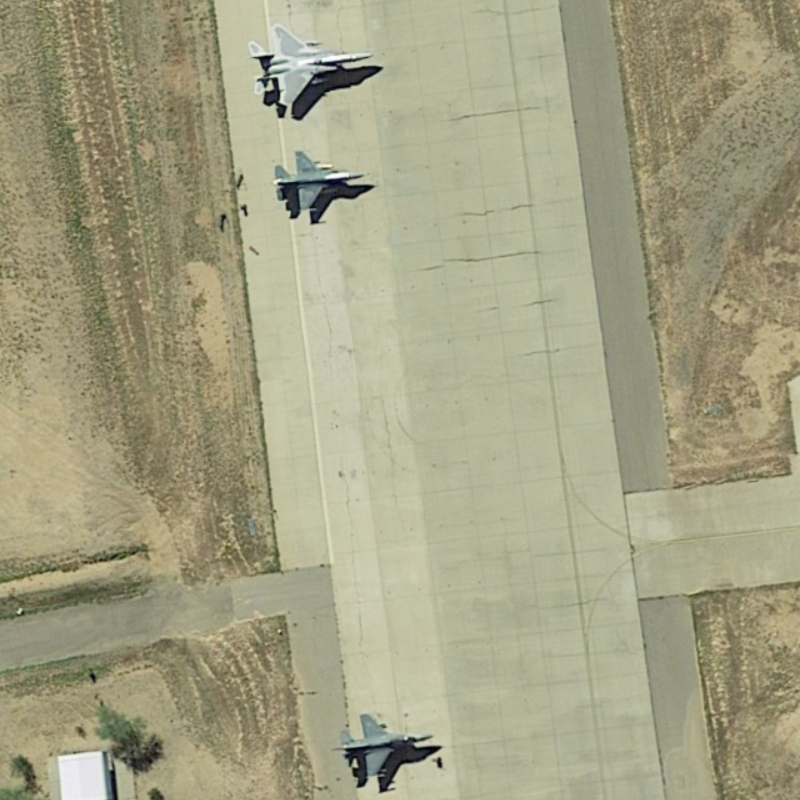A13: (246, 16, 383, 122)
A5: (335, 708, 440, 781), (269, 146, 368, 216)
